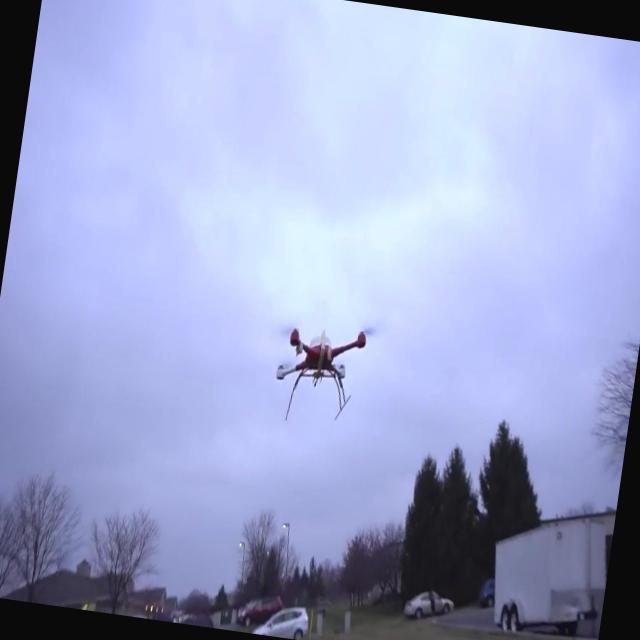drone: (267, 316, 369, 437)
